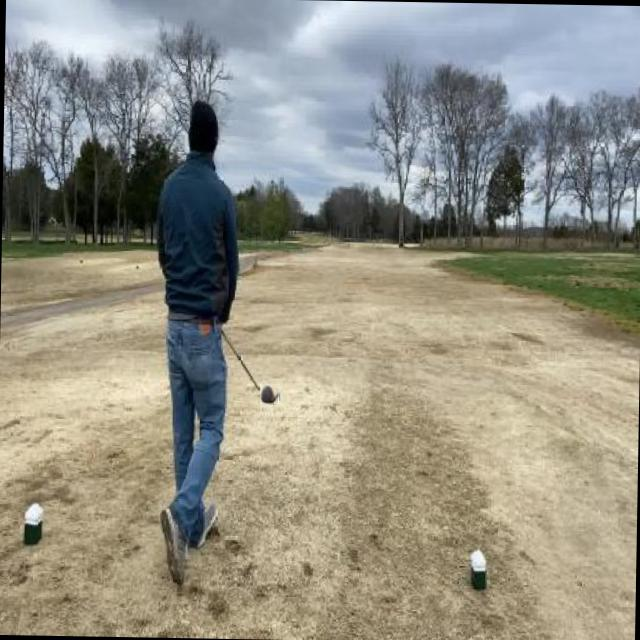club head: (260, 384, 279, 404)
